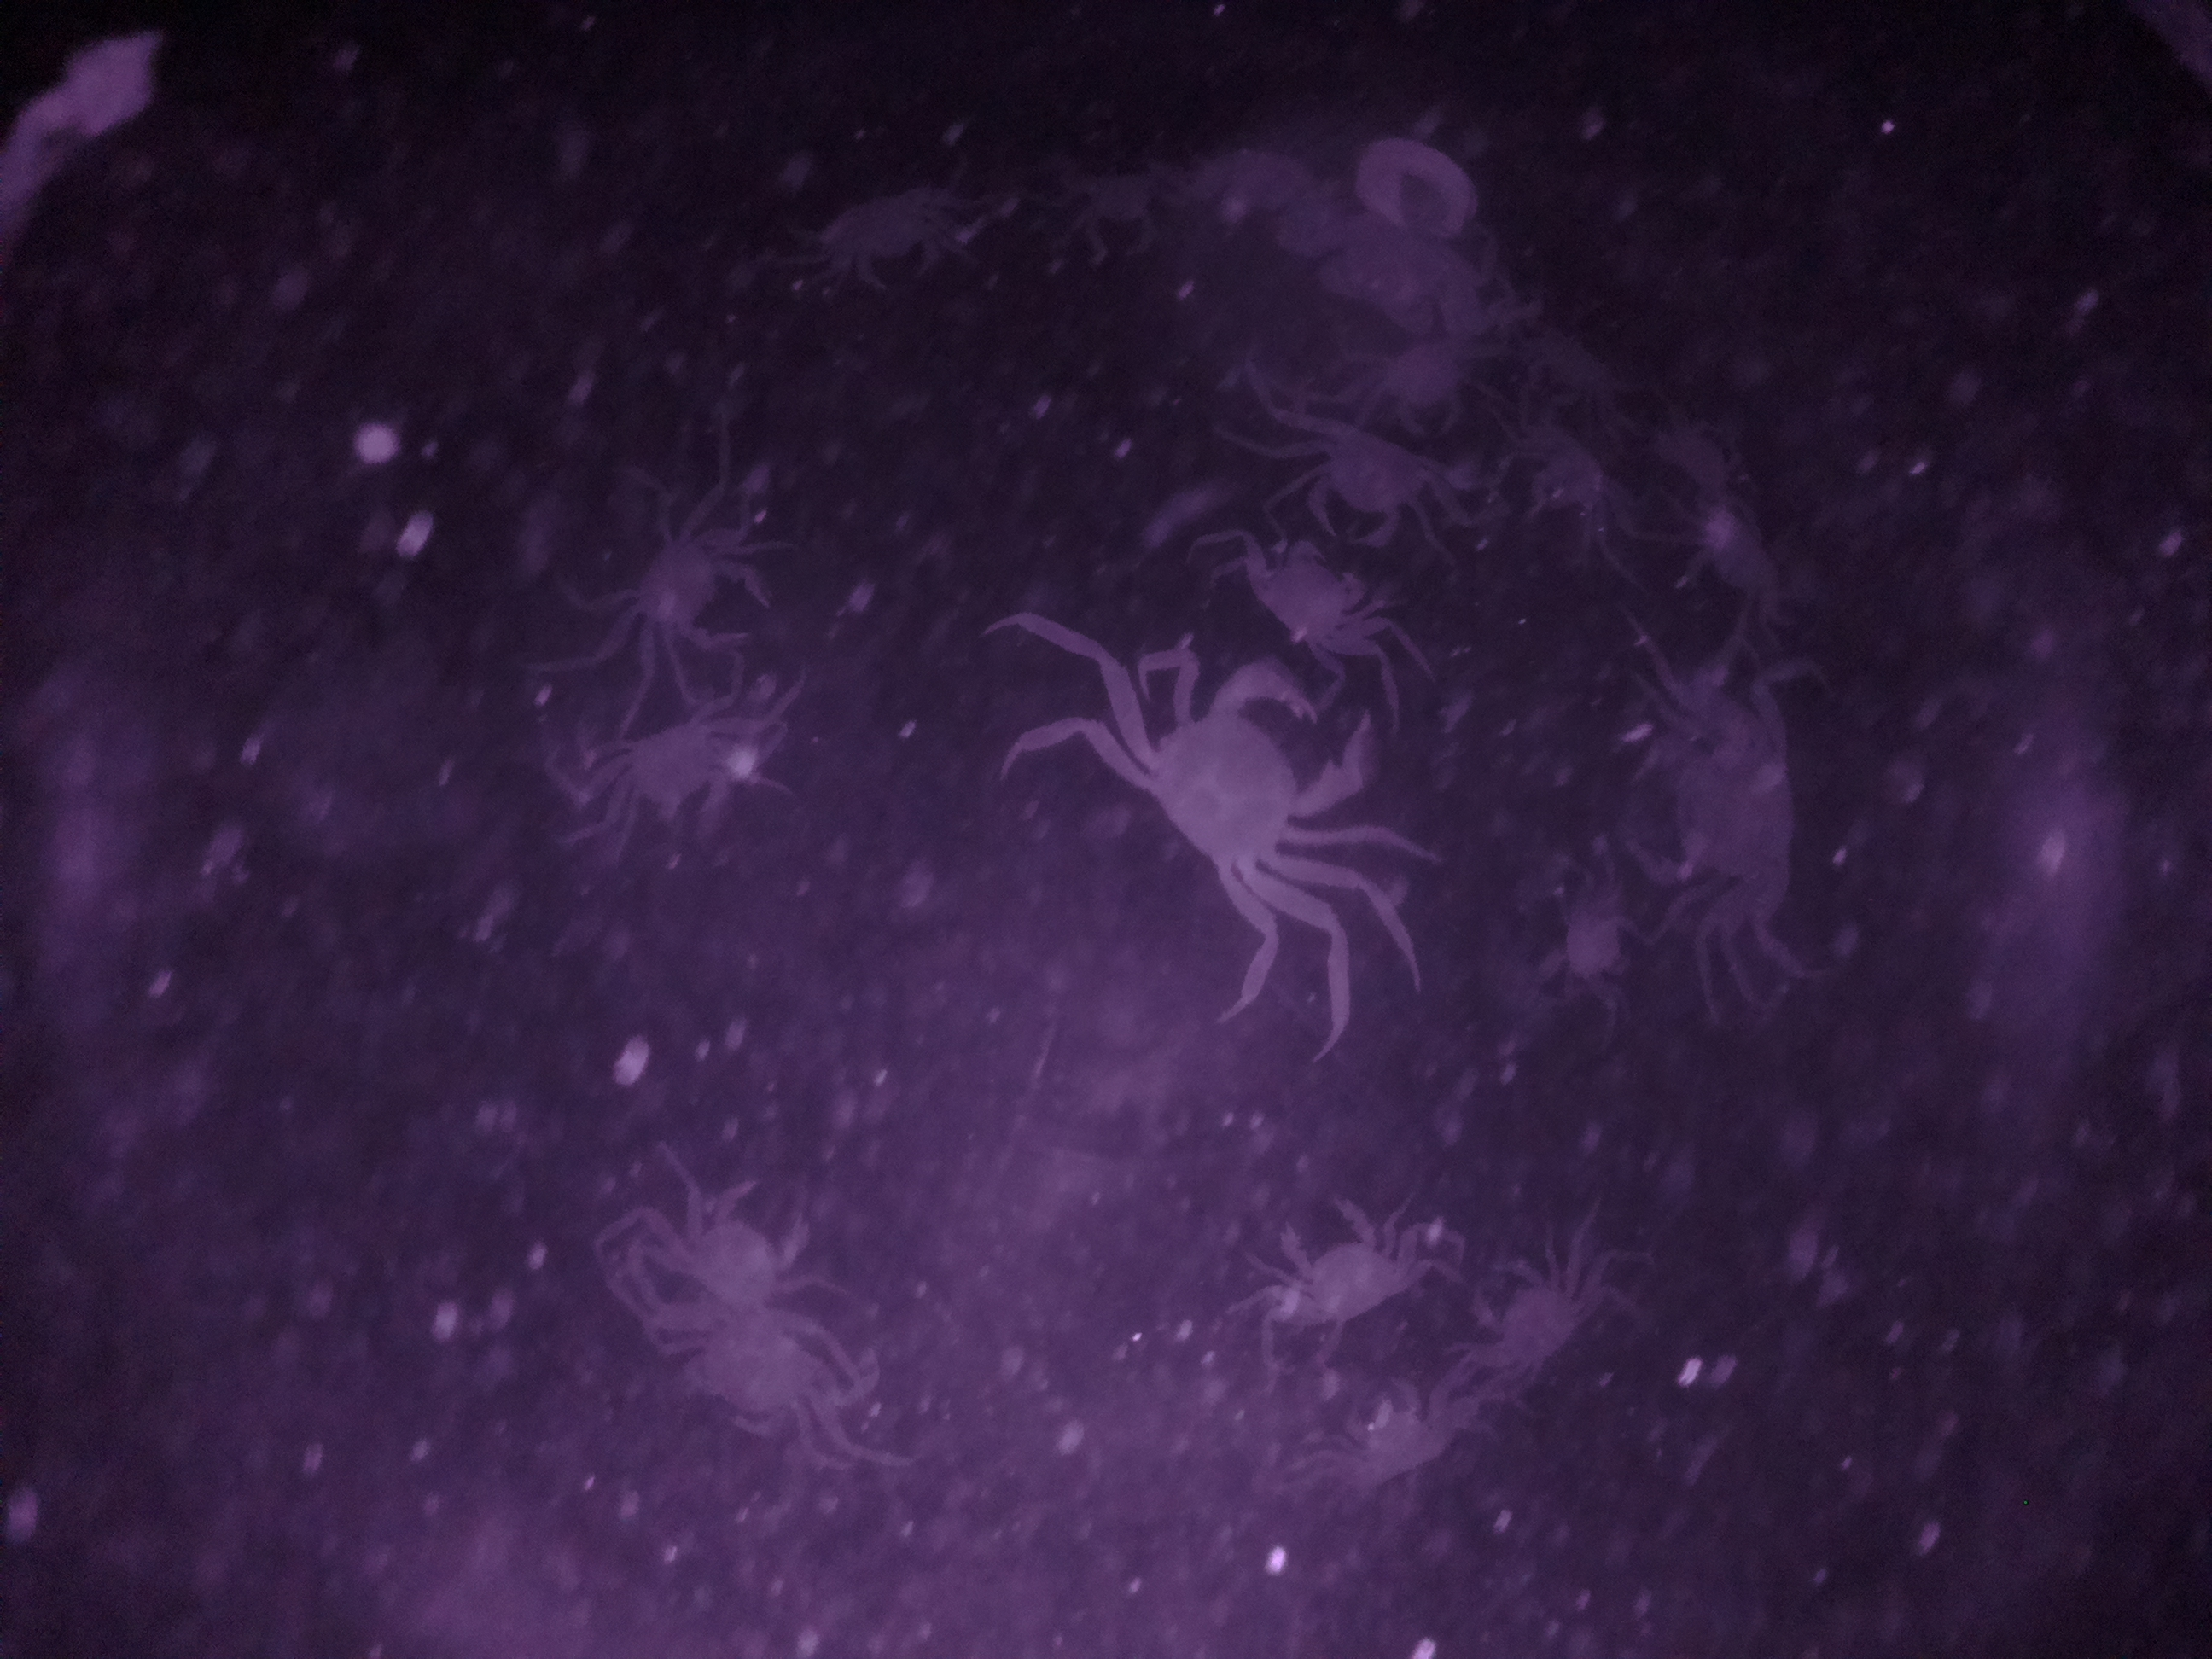Crab: (1096, 653, 1385, 929), (1602, 671, 1824, 951), (596, 495, 787, 669), (1238, 1183, 1425, 1340), (1280, 413, 1479, 547), (1451, 1243, 1613, 1398), (1238, 516, 1383, 653)
